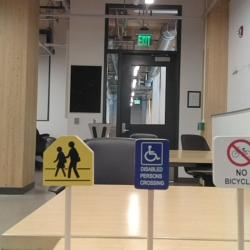disabled_persons_crossing: (135, 139, 169, 190)
no_bicycle: (213, 136, 250, 188)
school_crossing: (43, 135, 94, 186)
